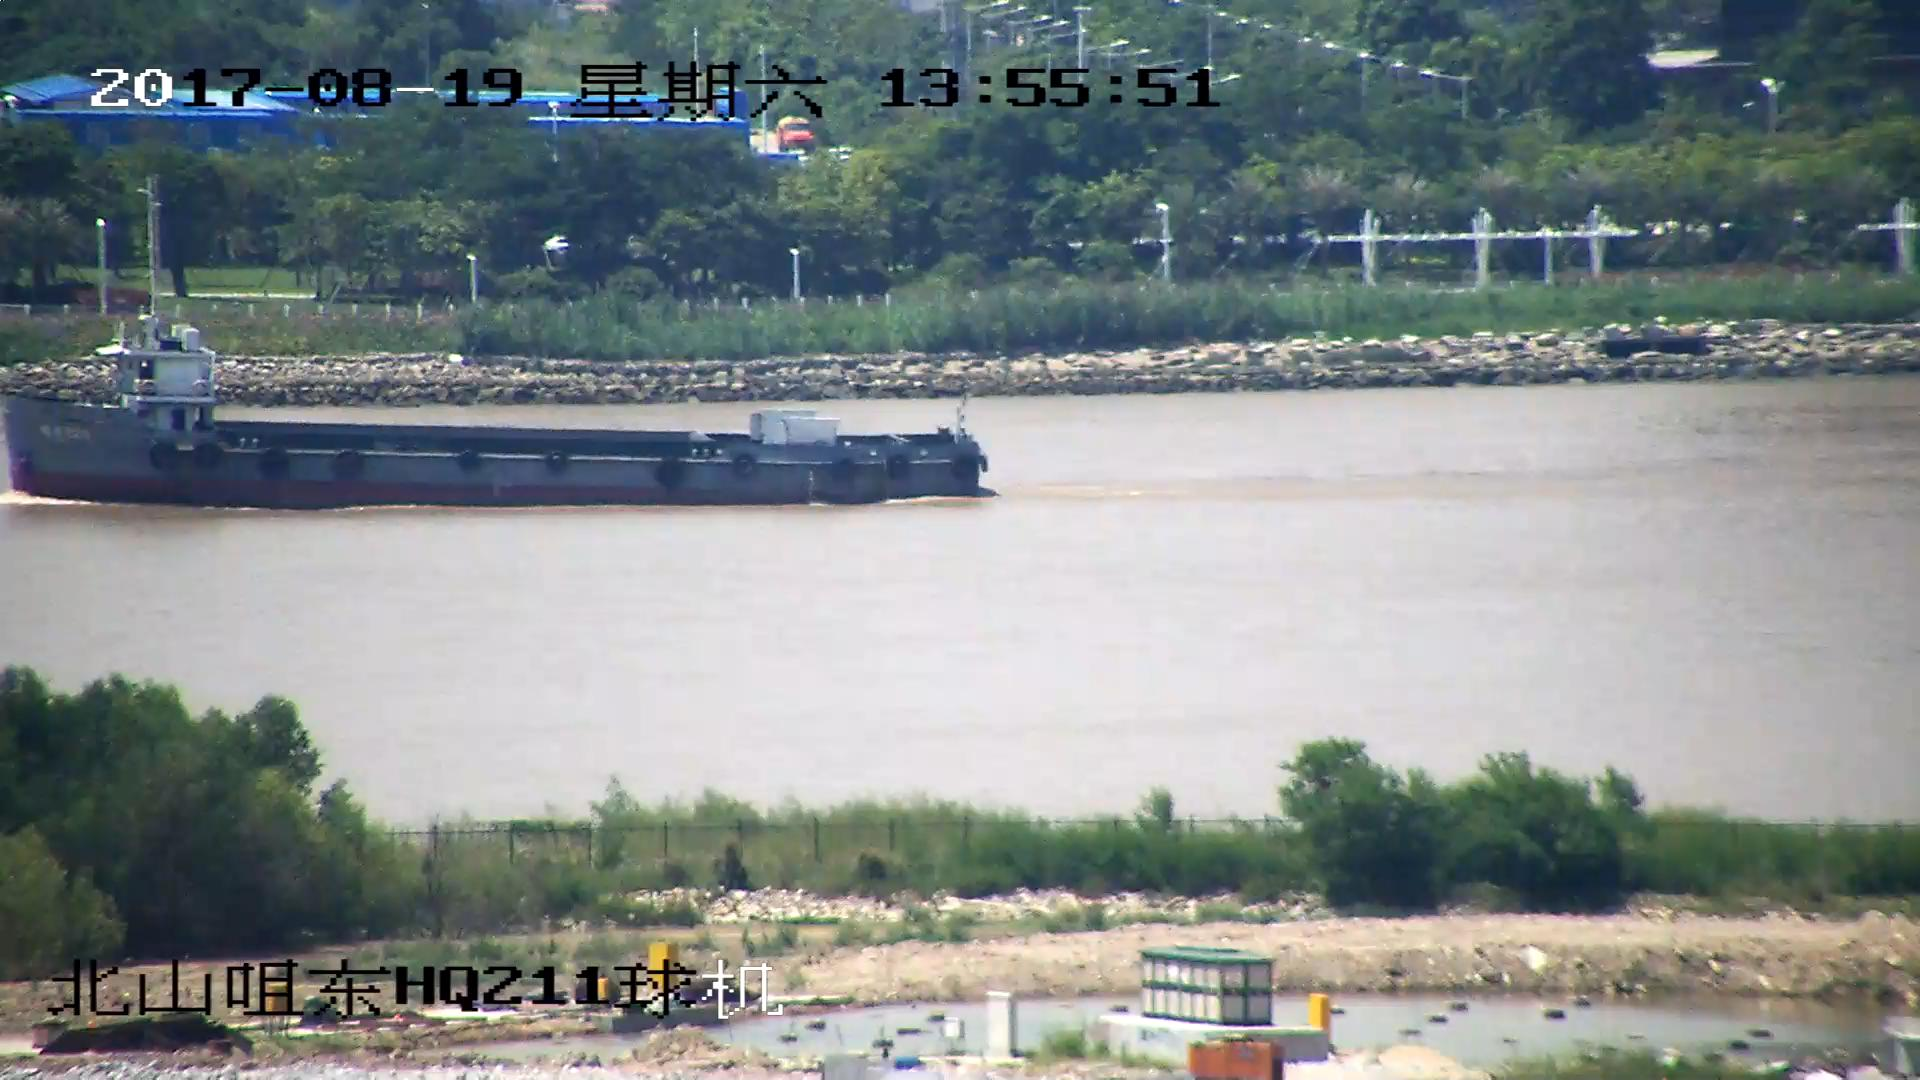general cargo ship: (1, 316, 987, 511)
